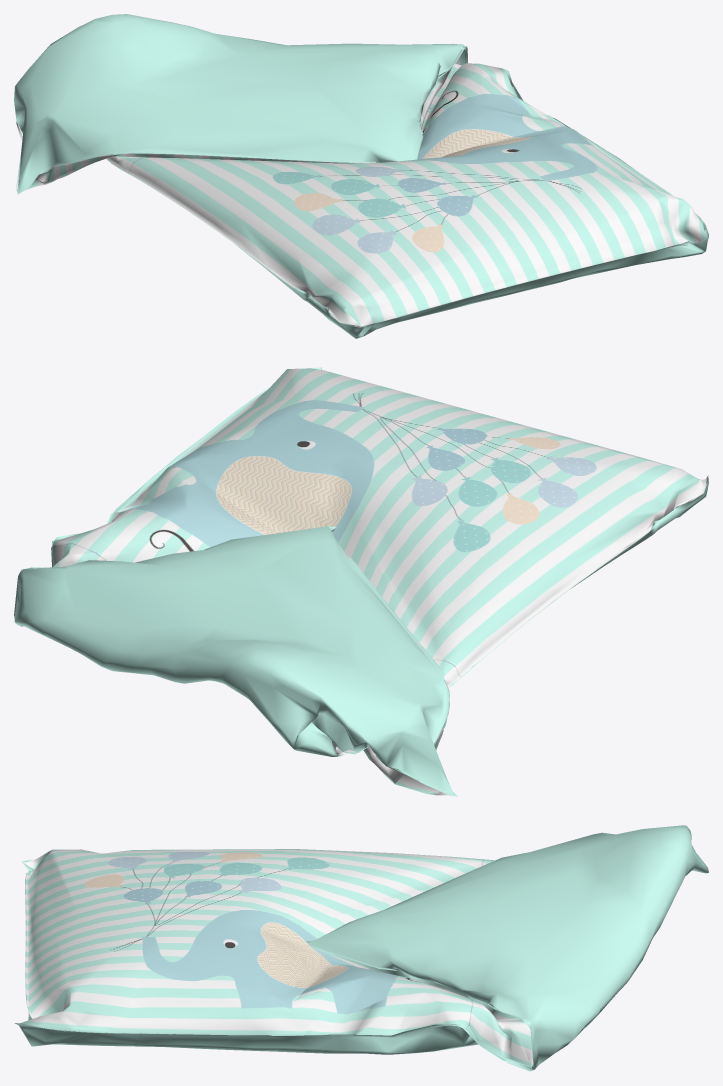
The model's file is Blanket.FBX.
3 renders of one model, top to bottom at view 1: azimuth 30°, elevation 25°; view 2: azimuth 150°, elevation 25°; view 3: azimuth 270°, elevation 25°, orthographic. The views are drawn at different scales.
Visible parts, largest first — view 1: blanket; view 2: blanket; view 3: blanket.
Part boxes in pixels (box(x1,y1,x2,y2)): blanket: box(14, 14, 708, 338); blanket: box(14, 367, 708, 796); blanket: box(14, 825, 708, 1071).
Bounding box in the file's own units: 65.76 × 17.54 × 91.61.
